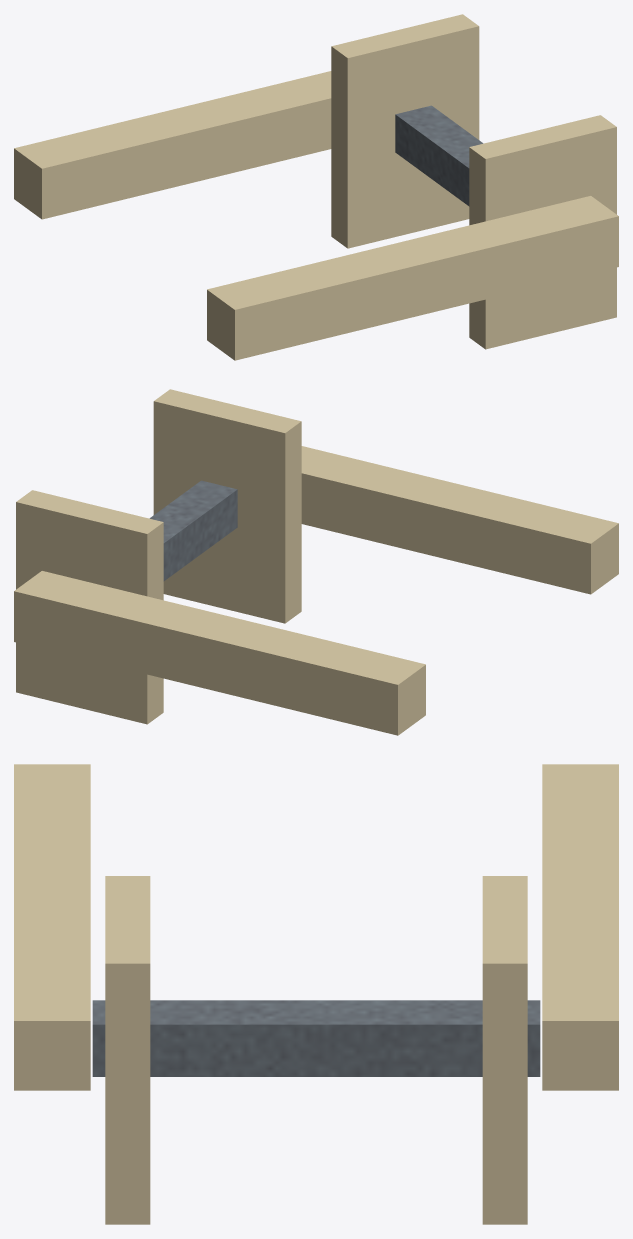
The model's file is Shop_Door_Handle.glb.
3 renders of one model, top to bottom at view 1: azimuth 30°, elevation 25°; view 2: azimuth 150°, elevation 25°; view 3: azimuth 270°, elevation 25°, orthographic. The views are drawn at different scales.
Visible parts, largest first — view 1: VIS_handle_brass, VIS_steel; view 2: VIS_handle_brass, VIS_steel; view 3: VIS_handle_brass, VIS_steel.
Part boxes in pixels (box(x1,y1,x2,y2)): VIS_handle_brass: box(14, 14, 618, 360); VIS_steel: box(395, 105, 483, 206); VIS_handle_brass: box(14, 389, 618, 735); VIS_steel: box(149, 480, 237, 581); VIS_handle_brass: box(14, 764, 618, 1224); VIS_steel: box(92, 1000, 540, 1076).
Size of the model in its own units: 0.2055 by 0.09 by 0.1892.
2 materials, 1 textured.
